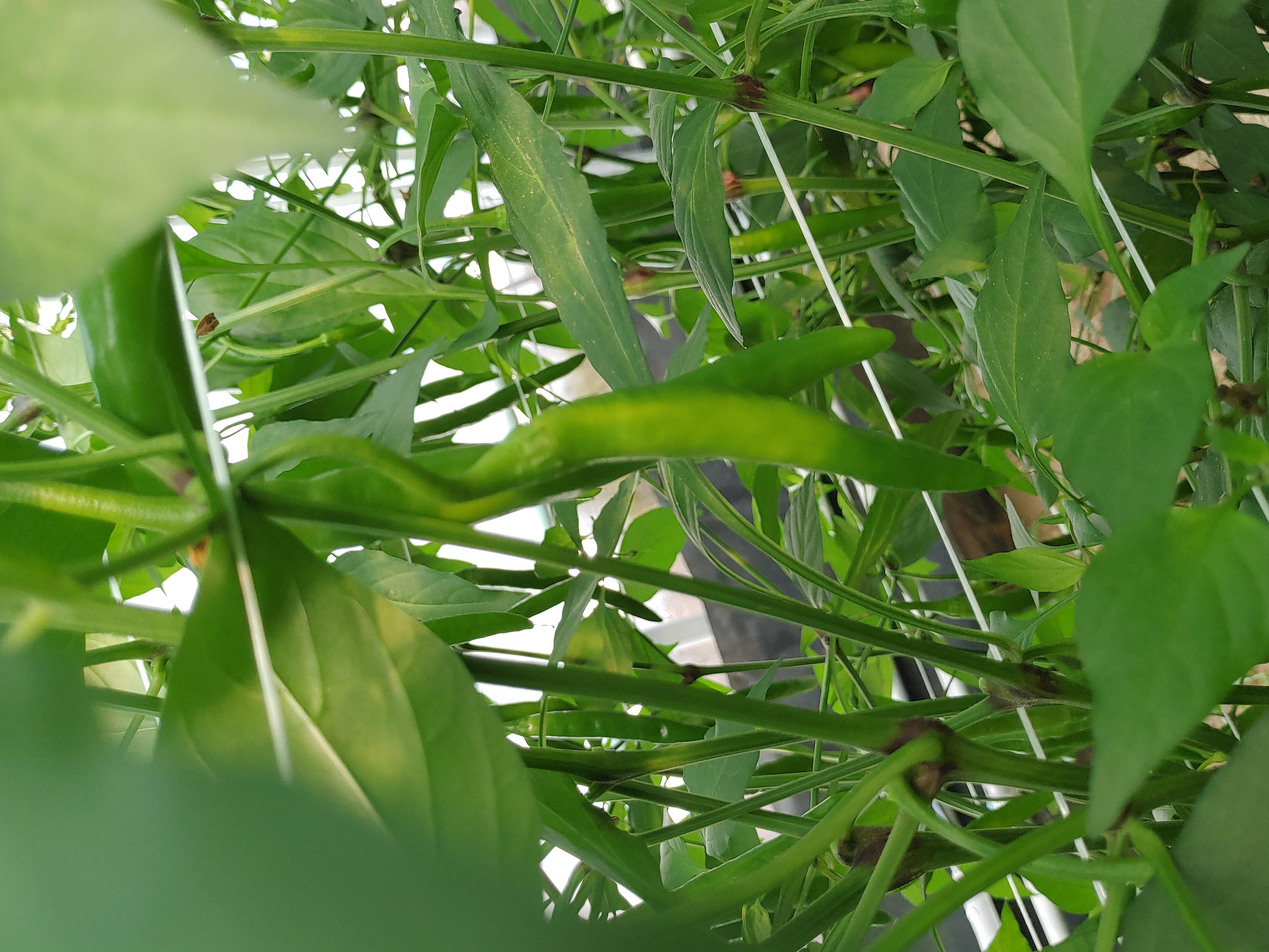Buah Cabai Sehat: (494, 385, 1003, 526)
